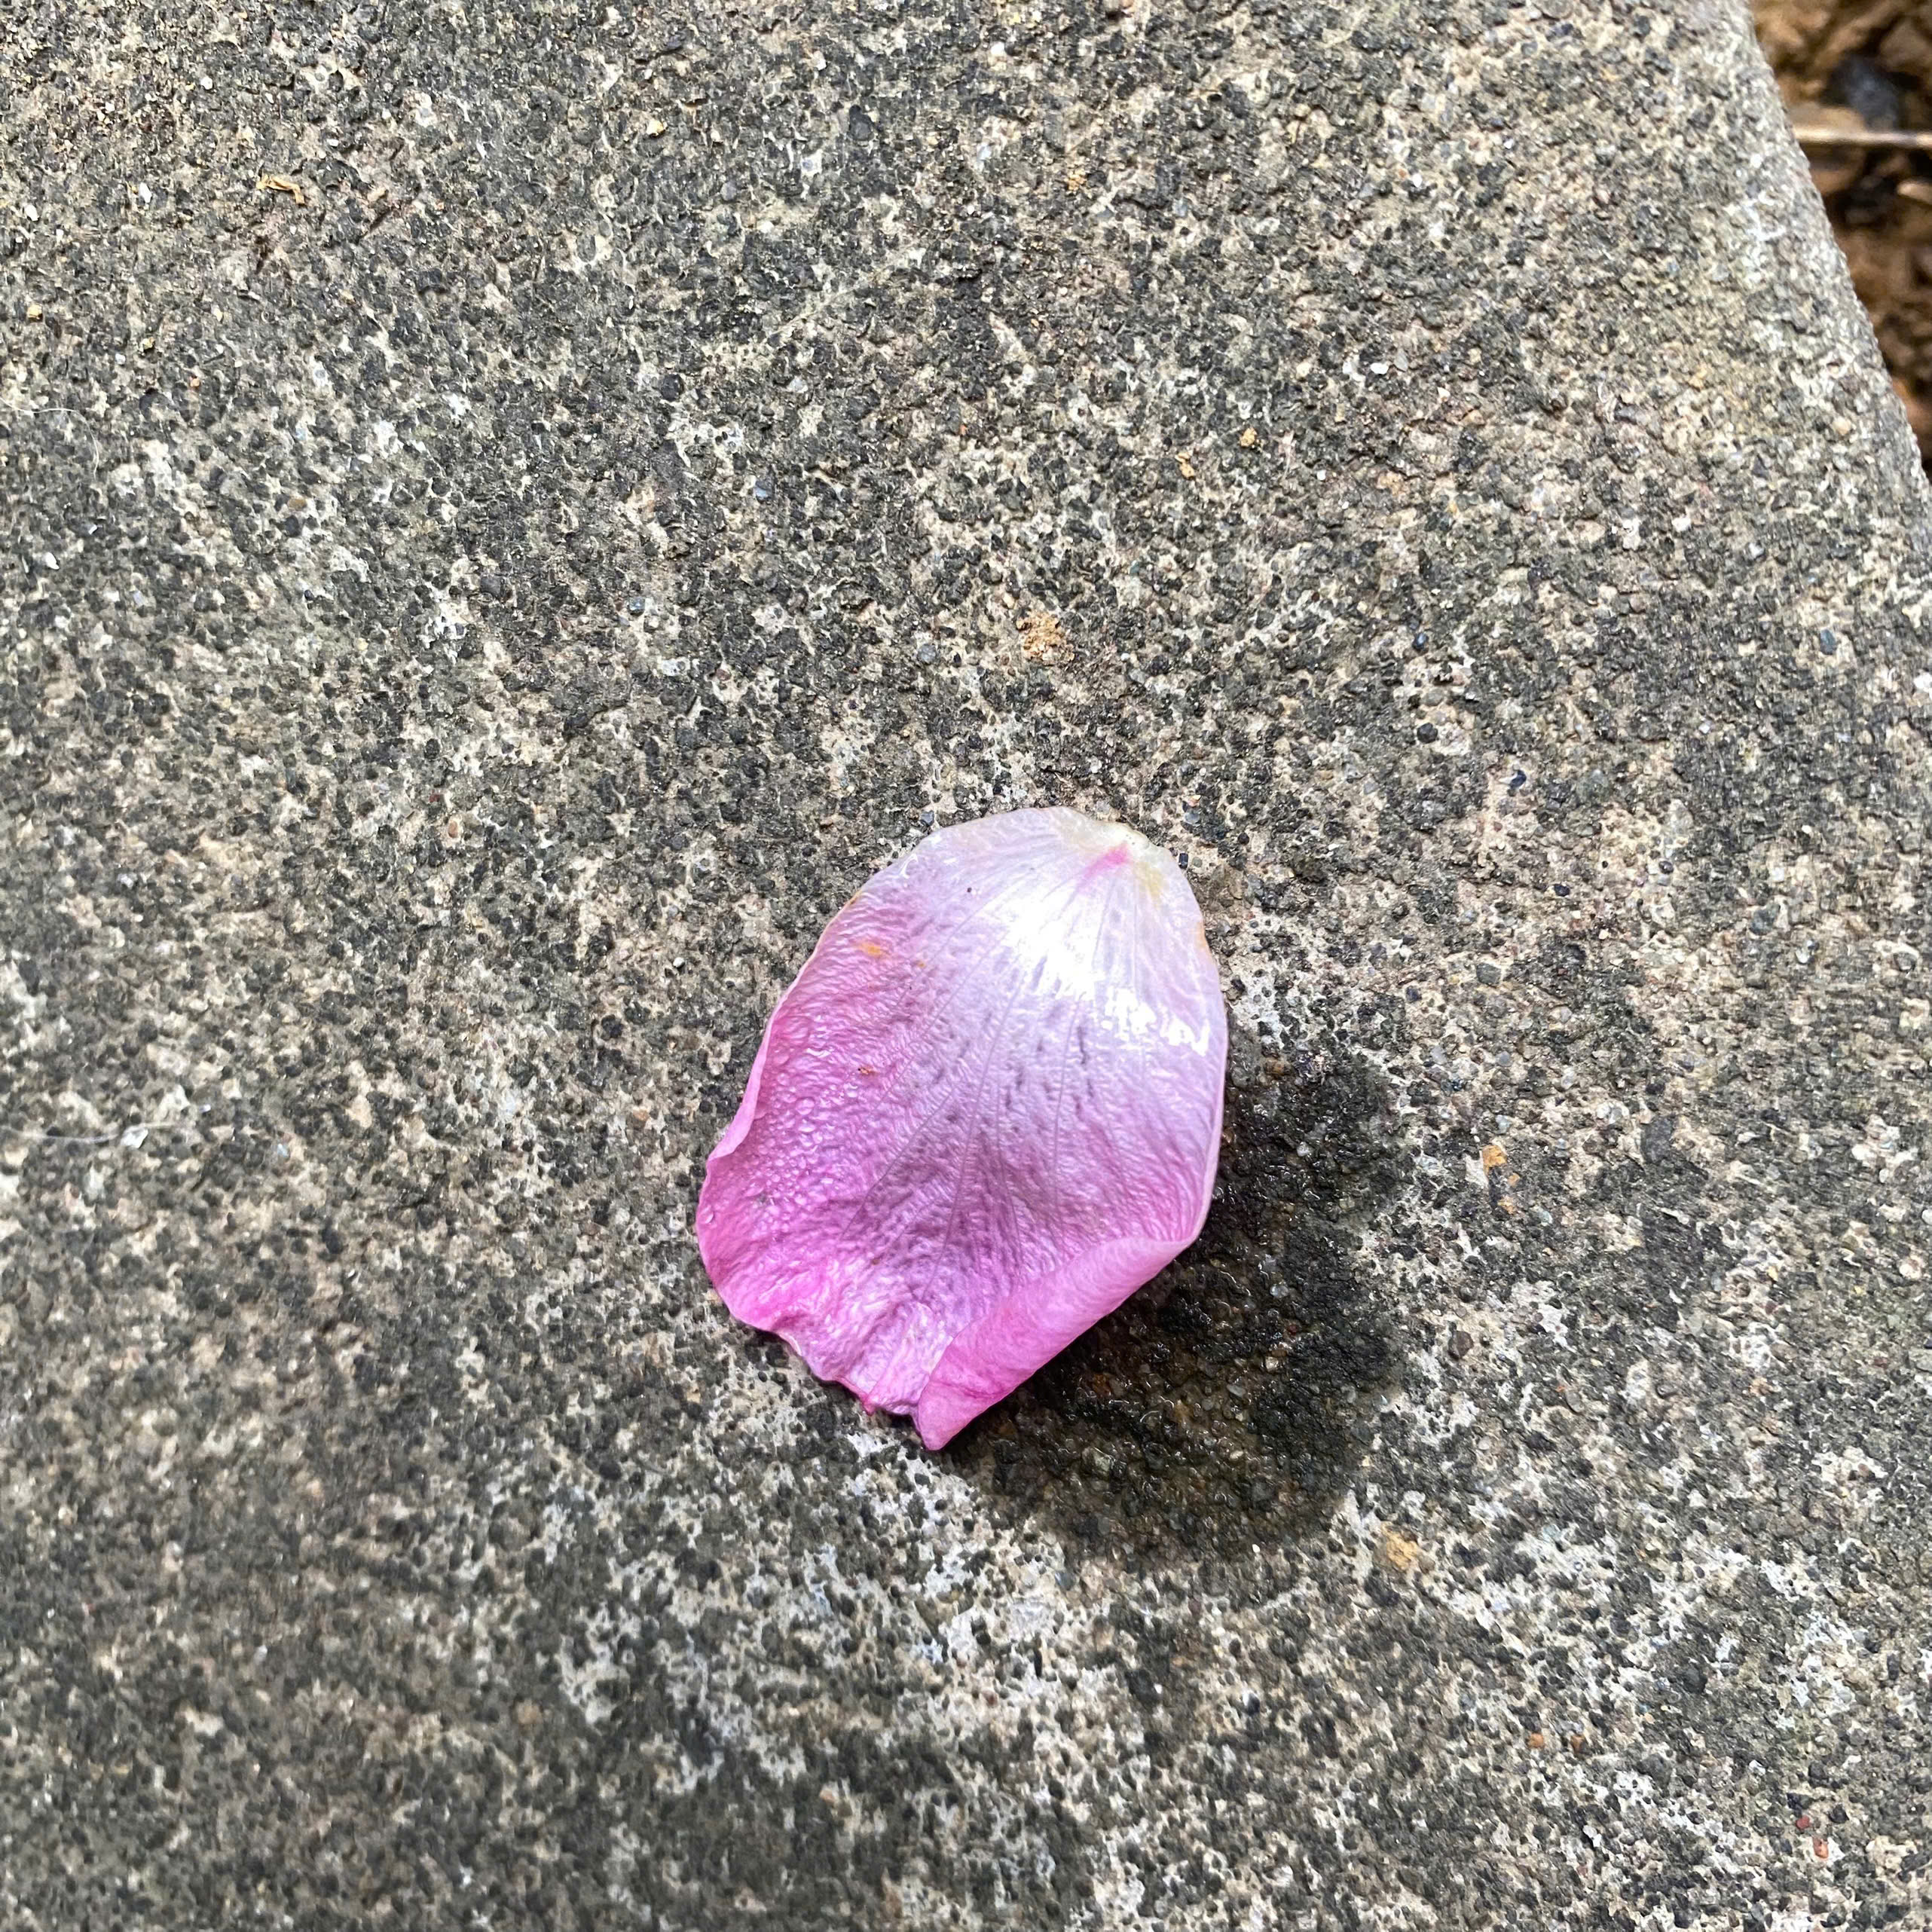hoa_hong_phan: (699, 780, 1364, 1516)
